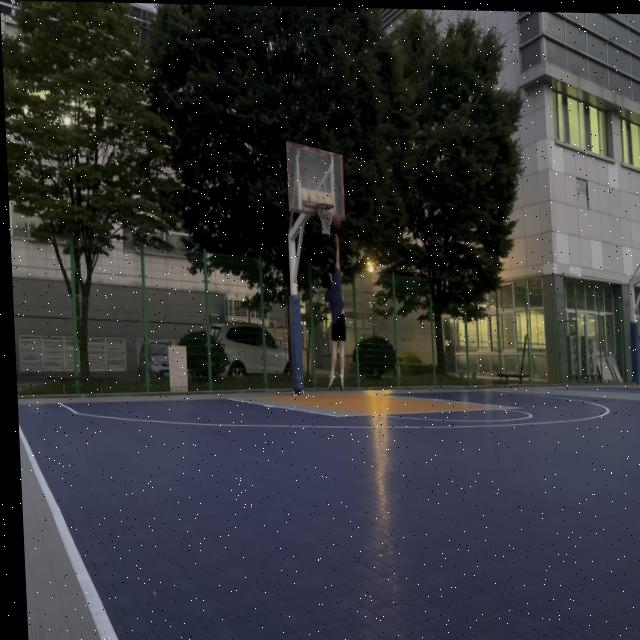basketball: (331, 214, 342, 231)
hoop: (316, 202, 336, 236)
